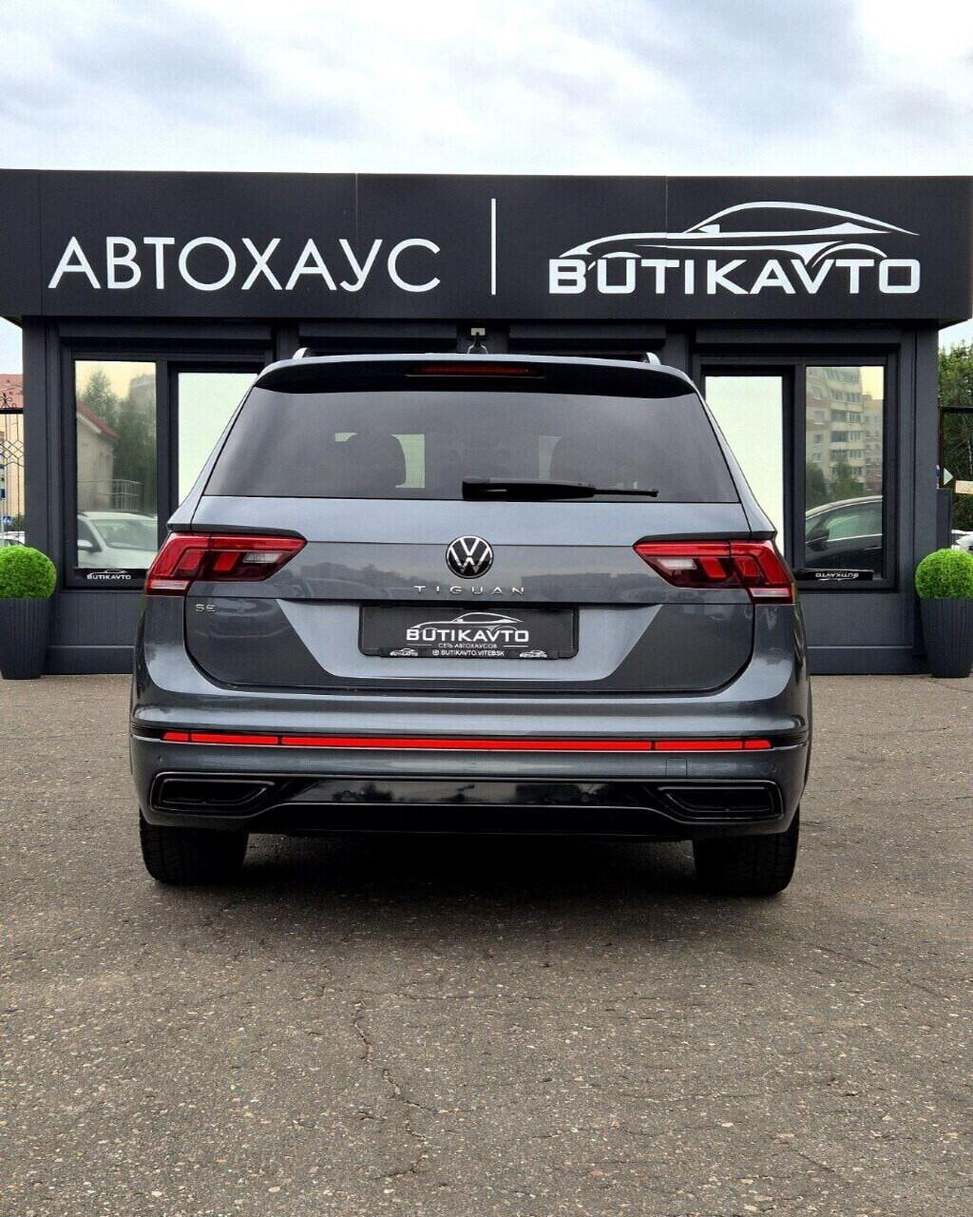Tiguan_2020-2024: (127, 341, 814, 906)
